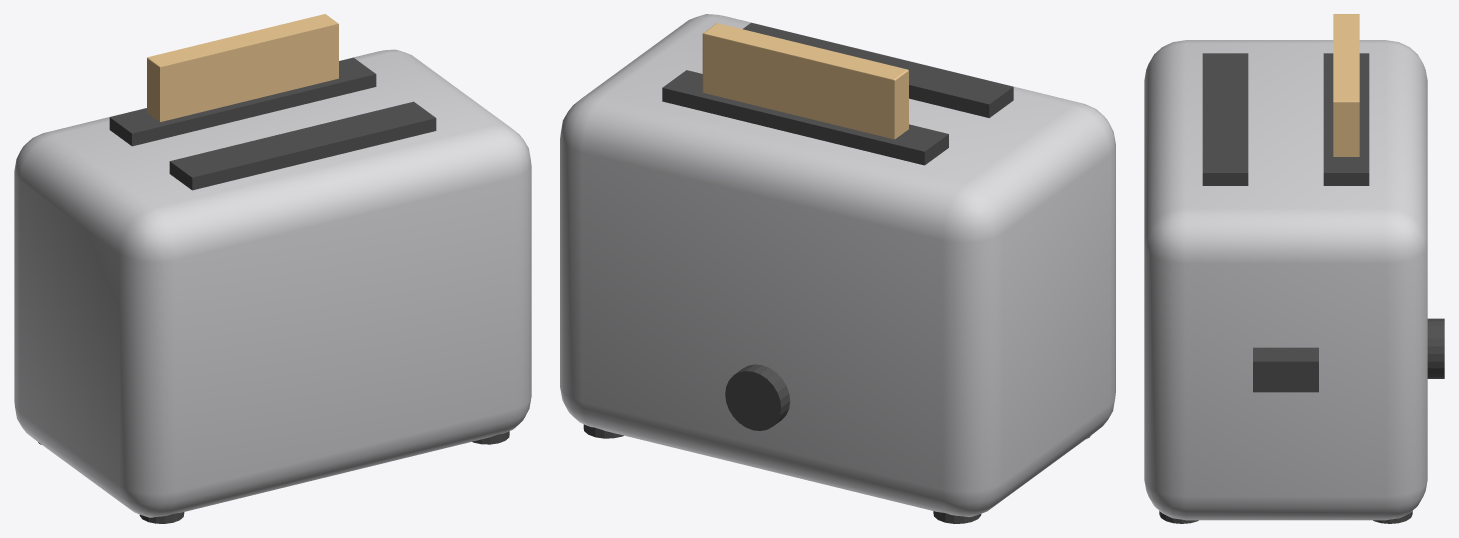
The model's file is toaster.glb.
The picture shows the model from 3 angles, left to right: view 1: azimuth 30°, elevation 25°; view 2: azimuth 150°, elevation 25°; view 3: azimuth 270°, elevation 25°; orthographic projection. The views are drawn at different scales.
Parts seen in each view (by area): view 1: Toaster; view 2: Toaster; view 3: Toaster.
Boxes of the visible parts, x1,y1,x2,y2 form: Toaster: (14, 14, 531, 523); Toaster: (560, 14, 1115, 523); Toaster: (1144, 14, 1444, 523).
Size of the model in its own units: 0.2675 by 0.22 by 0.159.
